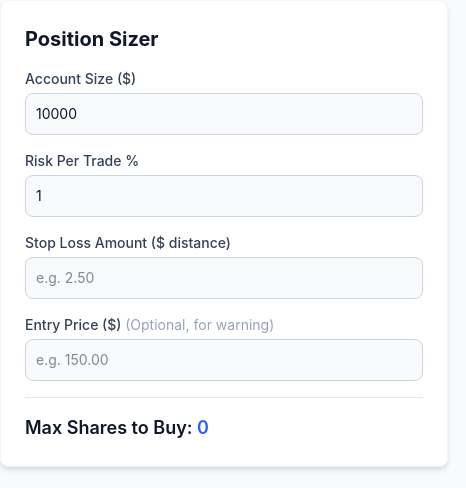
PositionSizer › updates calculation when inputs change
Replace the text in the number field labelled "Account Size ($)" with "20000" at (224, 114), box [25,93,423,135]
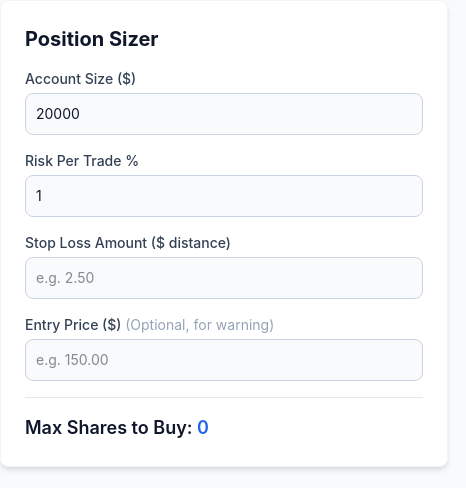
Replace the text in the number field labelled "Risk Per Trade %" with "2" at (224, 196), box [25,175,423,217]
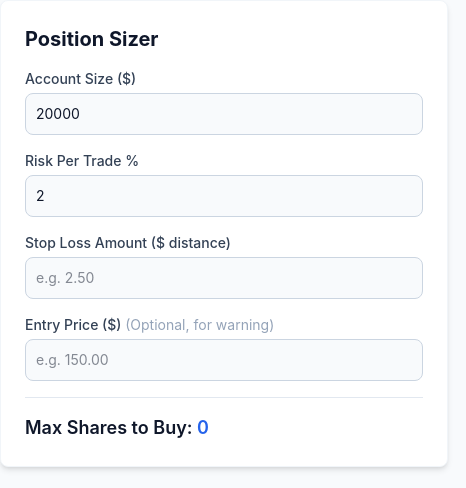
Type "4" into the number field labelled "Stop Loss Amount ($ distance)".
click(224, 278); type("4")  # box [25,257,423,299]
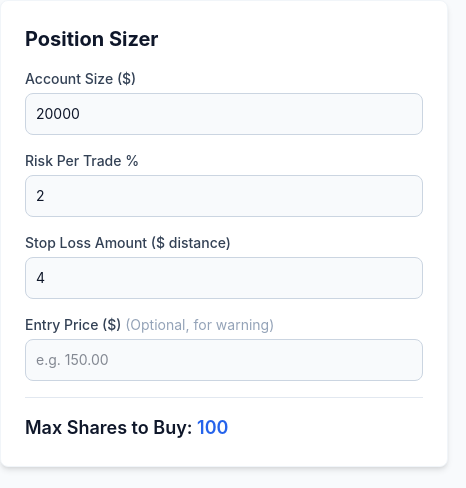
Result: the text "100" is shown at [197,417,228,438]
